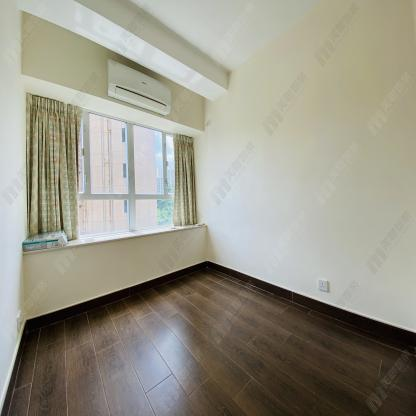AC: (107, 59, 171, 116)
Windowsill: (21, 74, 209, 256)
